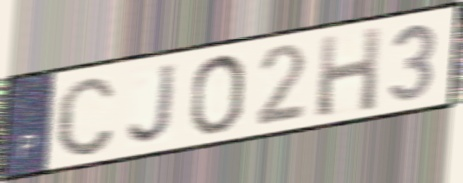2: (252, 41, 308, 130)
3: (386, 20, 440, 104)
C: (53, 72, 119, 159)
H: (314, 22, 383, 120)
J: (124, 59, 179, 147)
O: (187, 50, 249, 138)
